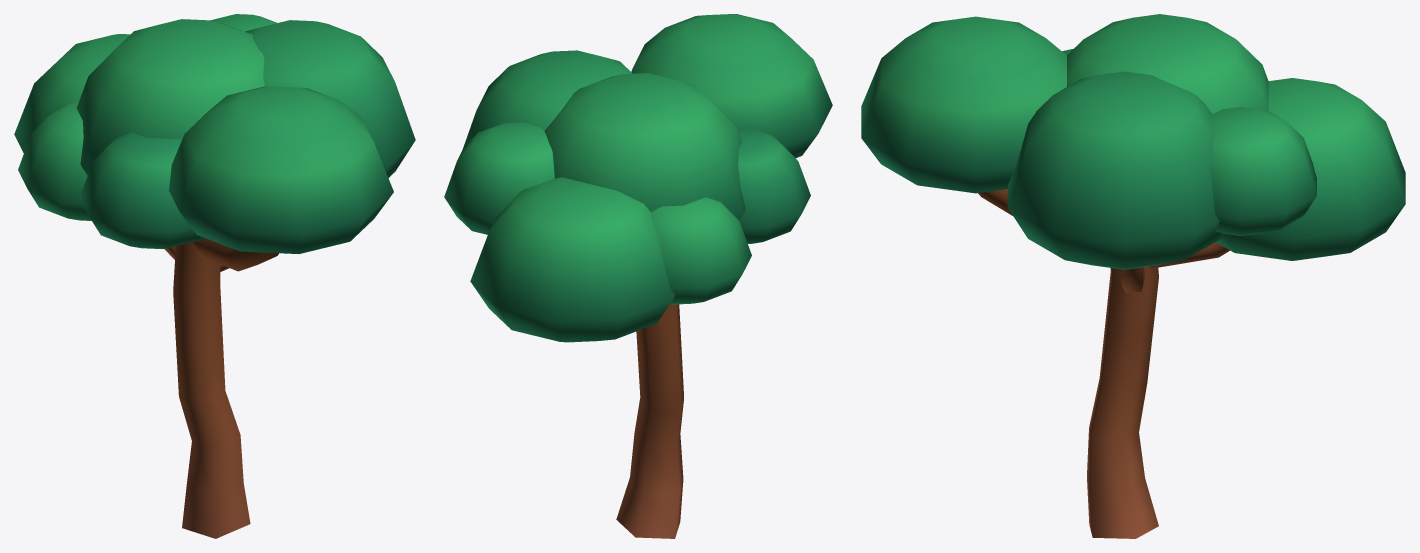
File: Pohon_Besar.fbx
3 renders of one model, left to right at view 1: azimuth 30°, elevation 25°; view 2: azimuth 150°, elevation 25°; view 3: azimuth 270°, elevation 25°, orthographic. The views are drawn at different scales.
Visible parts, largest first — view 1: tree.002; view 2: tree.002; view 3: tree.002.
Boxes of the visible parts, x1,y1,x2,y2 form: tree.002: [14, 14, 415, 538]; tree.002: [444, 14, 832, 538]; tree.002: [861, 14, 1405, 538].
Size of the model in its own units: 659 by 909 by 906.
